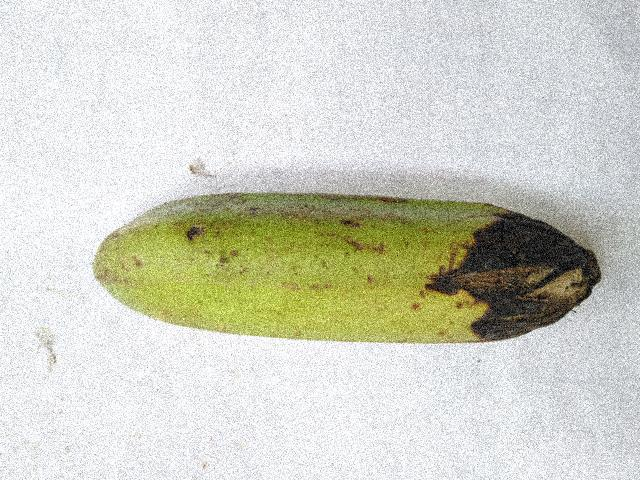rotten: (400, 196, 614, 370)
unripe: (84, 165, 441, 369)
